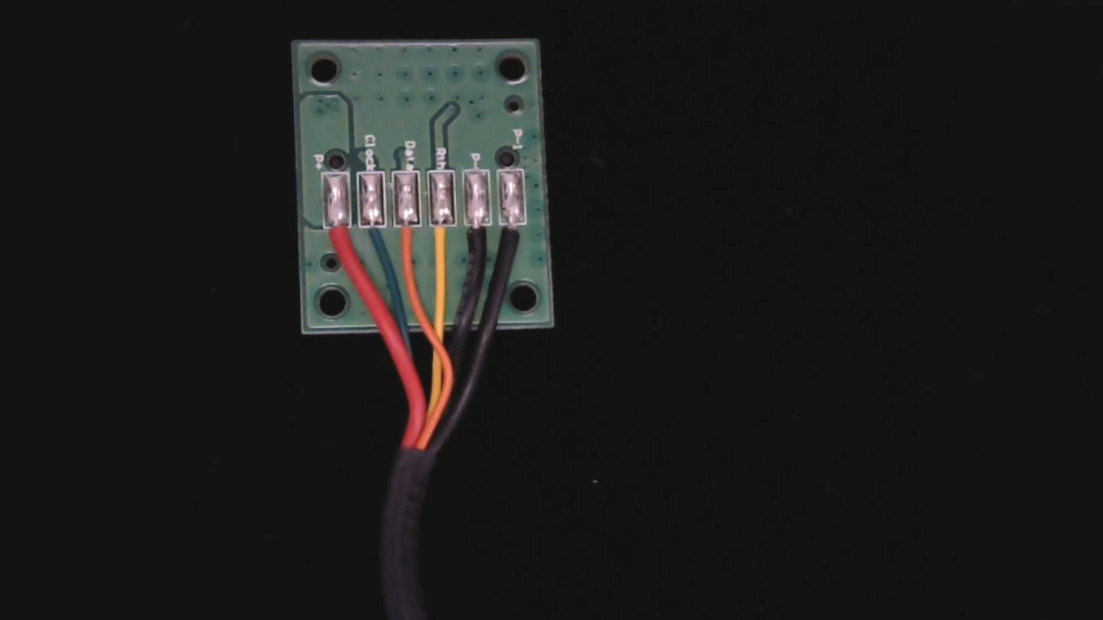Black: (455, 212, 483, 271)
Black1: (489, 214, 517, 272)
Green: (354, 215, 381, 268)
Orange: (388, 212, 413, 267)
Red: (321, 216, 347, 273)
Yellow: (422, 211, 448, 270)
